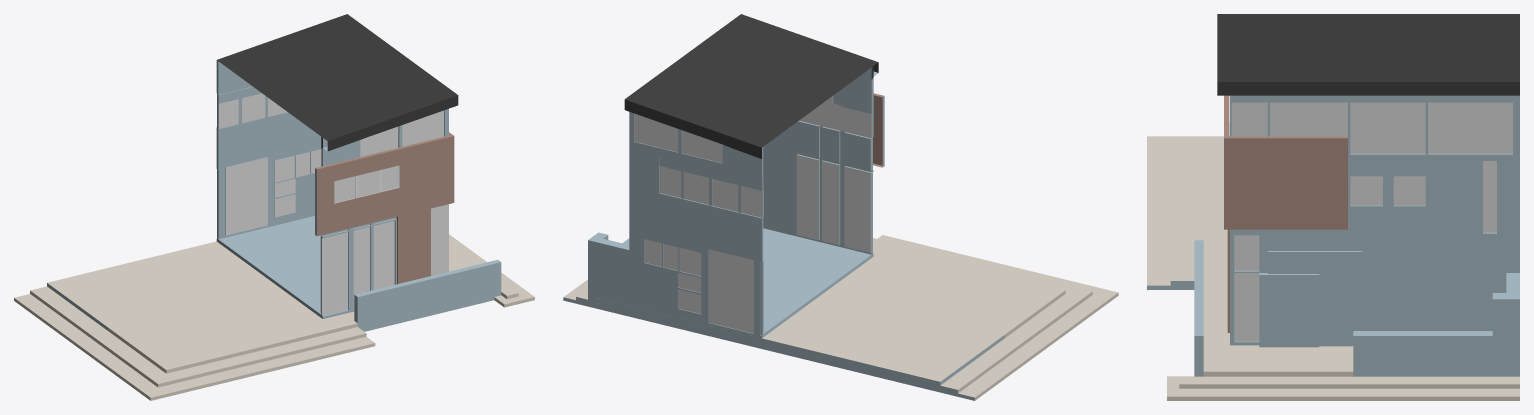
File: house-2.glb
3 renders of one model, left to right at view 1: azimuth 30°, elevation 25°; view 2: azimuth 150°, elevation 25°; view 3: azimuth 270°, elevation 25°, orthographic. The views are drawn at different scales.
Visible parts, largest first — view 1: Part A; view 2: Part A; view 3: Part A.
Boxes of the visible parts, x1,y1,x2,y2 form: Part A: (14, 14, 534, 400); Part A: (563, 14, 1118, 400); Part A: (1147, 14, 1519, 400).
Bounding box in the file's own units: 8.01 × 4.02 × 4.85.
